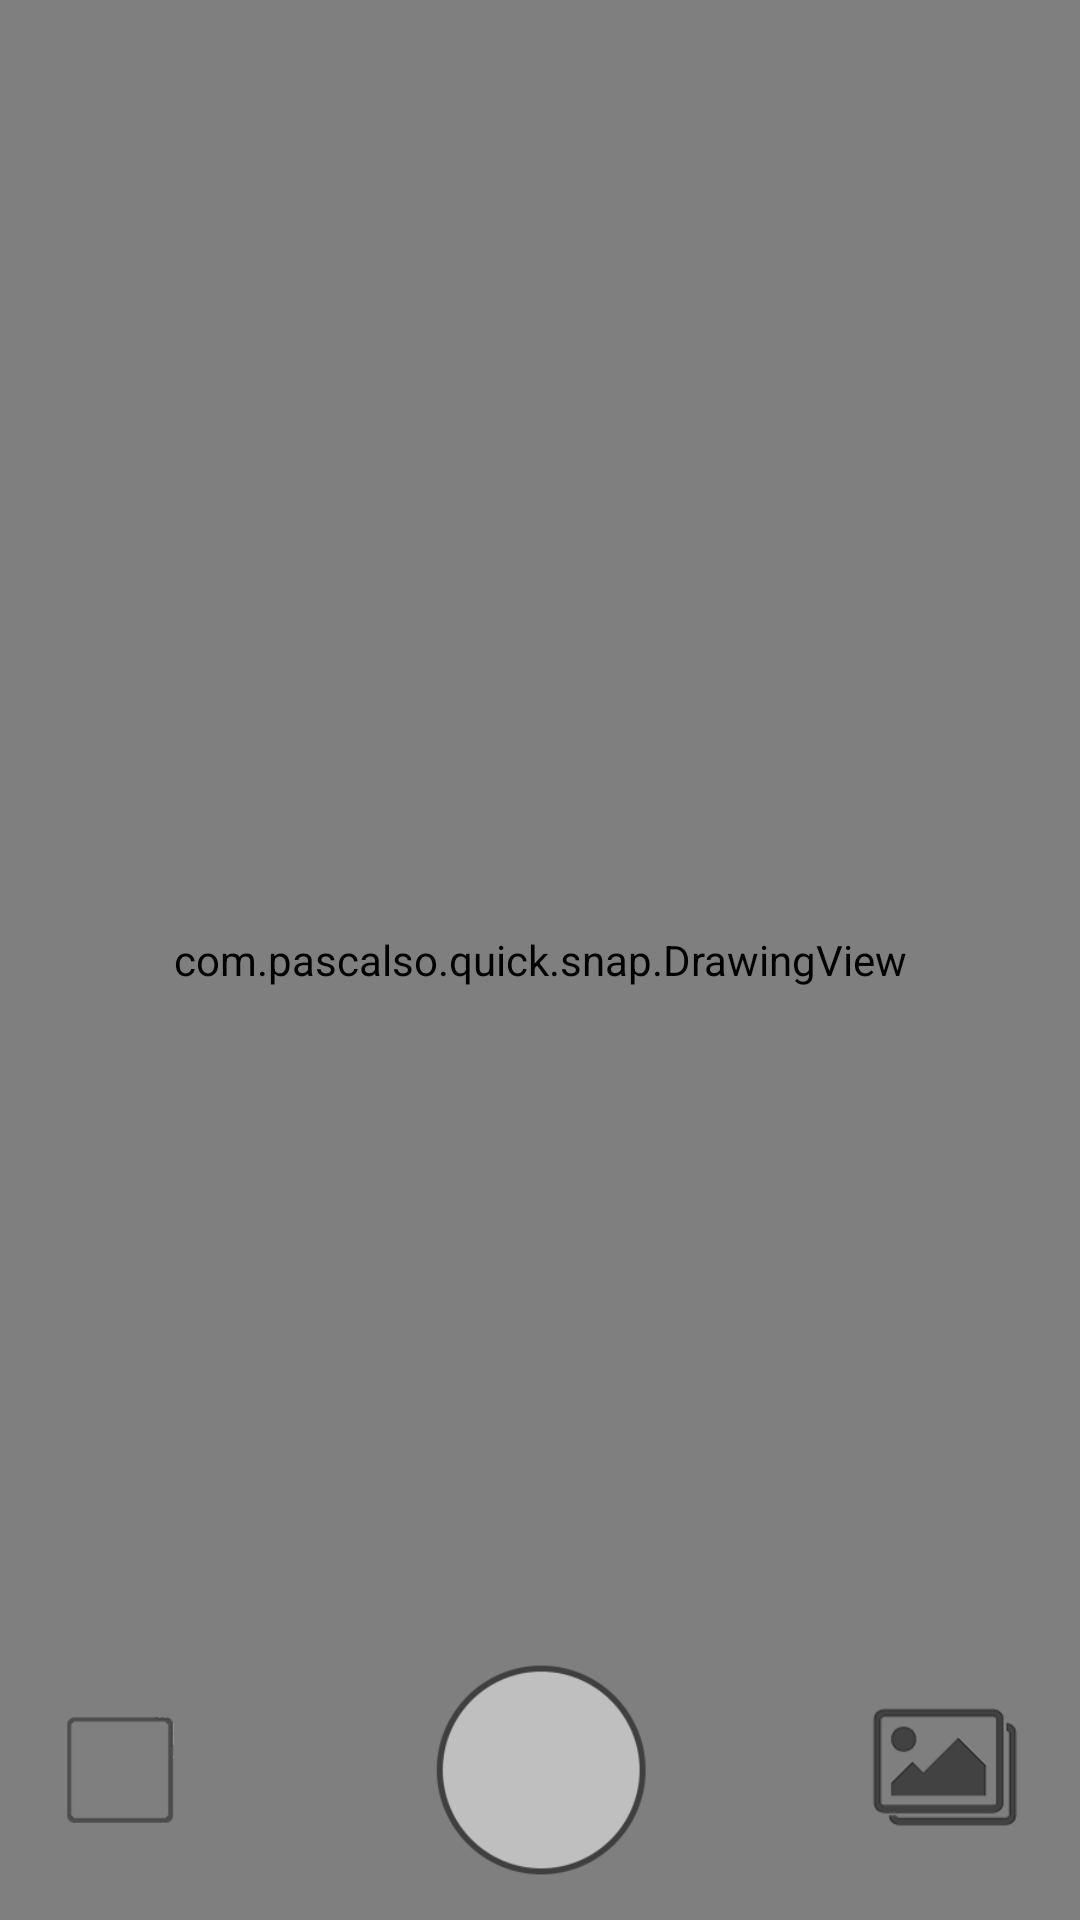

Where to tap for icons on this 1080×1920 app screen, as [x,y]:
gallery: [945,1767]
takepic: [541,1770]
